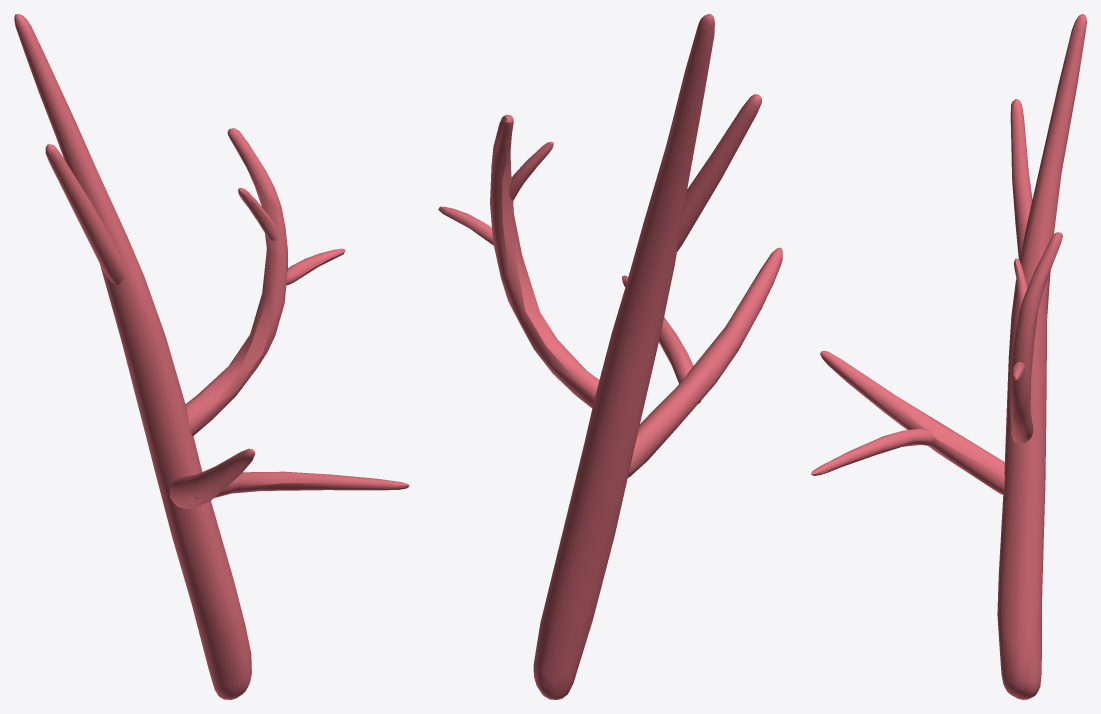
The model's file is fma9437_cx291.glb.
3 views of the same model, side by side, from view 1: azimuth 30°, elevation 25°; view 2: azimuth 150°, elevation 25°; view 3: azimuth 270°, elevation 25° (orthographic). The views are drawn at different scales.
Parts seen in each view (by area): view 1: FMA9437_CX291; view 2: FMA9437_CX291; view 3: FMA9437_CX291.
Part boxes in pixels (bbox=[...]): FMA9437_CX291: bbox=[14, 14, 409, 699]; FMA9437_CX291: bbox=[438, 14, 782, 699]; FMA9437_CX291: bbox=[811, 14, 1086, 699].
Size of the model in its own units: 0.0401 by 0.0899 by 0.0369.
